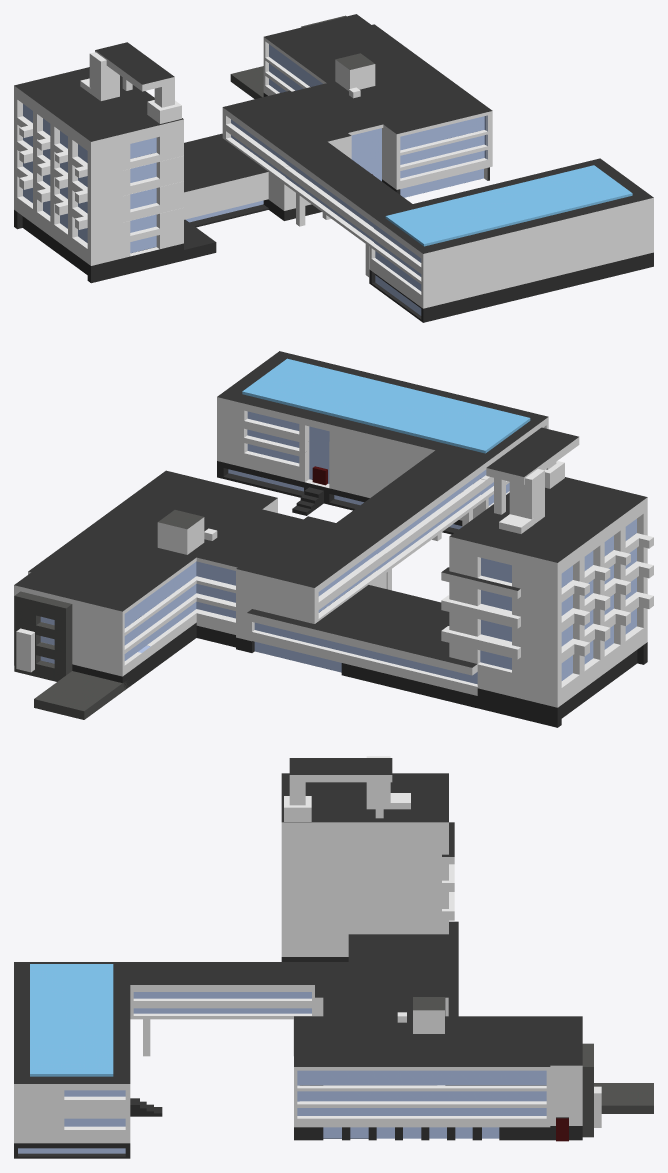
Rendered from bauhaus-transformed.glb.
3 renders of one model, top to bottom at view 1: azimuth 30°, elevation 25°; view 2: azimuth 150°, elevation 25°; view 3: azimuth 270°, elevation 25°, orthographic. The views are drawn at different scales.
Parts seen in each view (by area): view 1: Cube.024; view 2: Cube.024; view 3: Cube.024.
Part boxes in pixels (x1,y1,x2,y2): Cube.024: [14, 14, 653, 322]; Cube.024: [14, 351, 653, 727]; Cube.024: [14, 756, 653, 1158].
Bounding box in the file's own units: 13.6 × 5.29 × 15.53.
2 materials, 2 textured.
